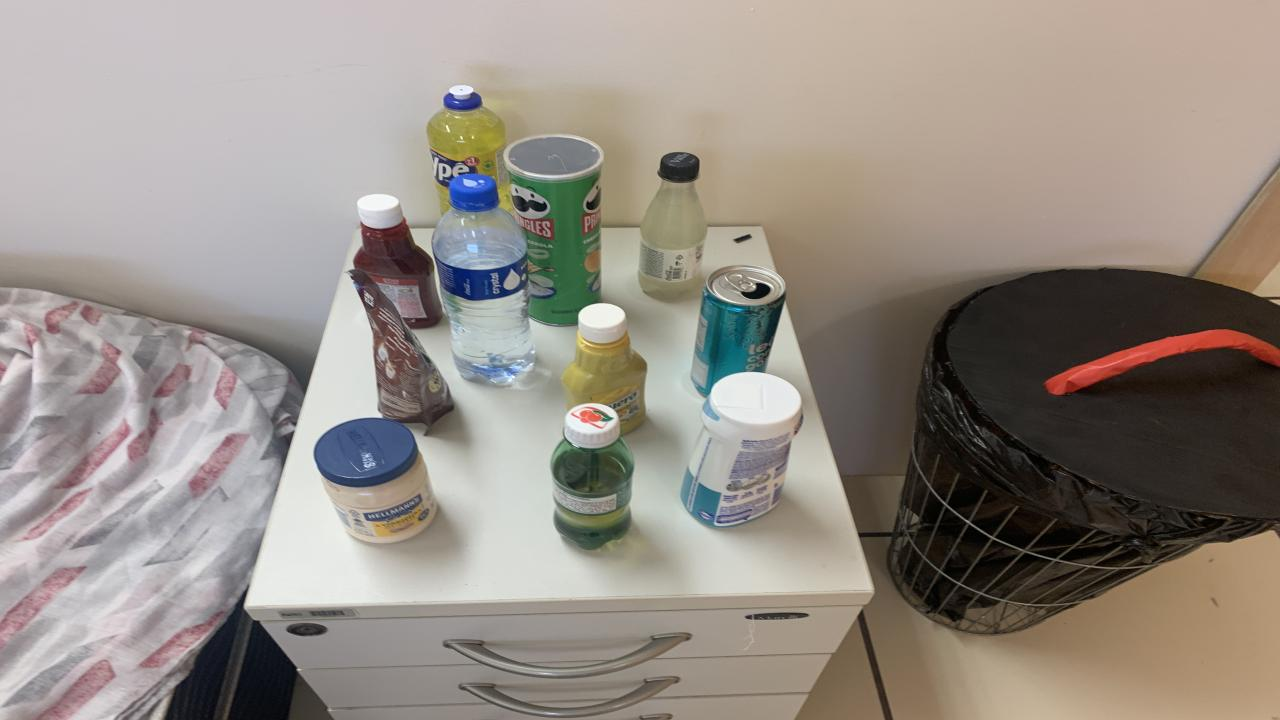Cleaner-Cleanup_Items: (680, 371, 802, 527)
Coffee-Pantry_Items: (348, 268, 452, 429)
Detergent-Cleanup_Items: (428, 84, 510, 214)
Guarana-Drinks: (550, 403, 635, 549)
Ketchup-Pantry_Items: (355, 195, 442, 328)
Mayonnaise-Pantry_Items: (312, 418, 438, 544)
Mustard-Pantry_Items: (562, 304, 648, 433)
Pringles-Snacks: (502, 135, 605, 326)
Soda-Drinks: (638, 152, 708, 300)
Tea-Drinks: (690, 264, 785, 396)
Water_Bottle-Drinks: (432, 174, 535, 386)
